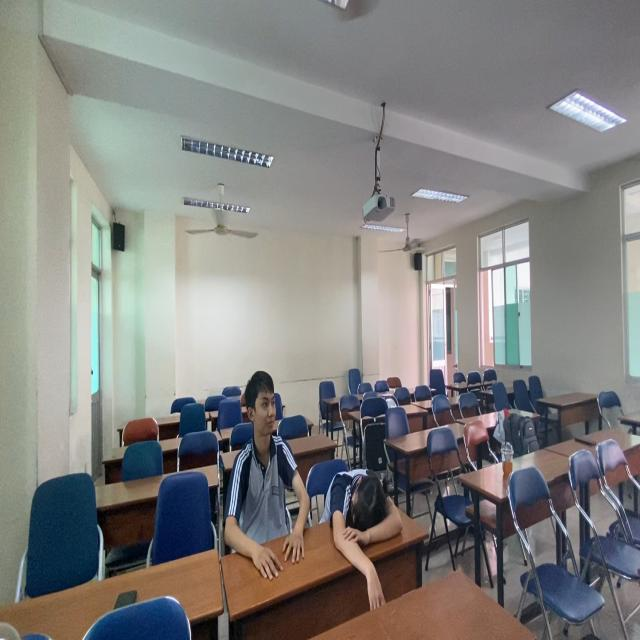sleep: (321, 457, 408, 565)
